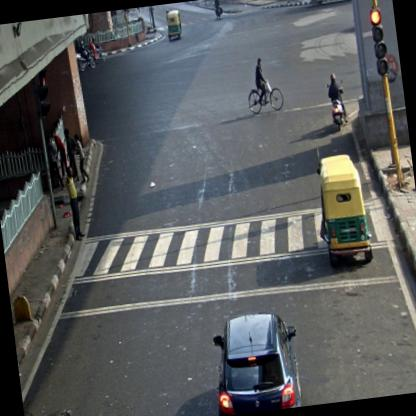bus: (299, 0, 353, 9)
car: (208, 306, 304, 416)
motorcycle: (242, 55, 286, 116), (324, 71, 348, 132), (211, 0, 224, 21)
